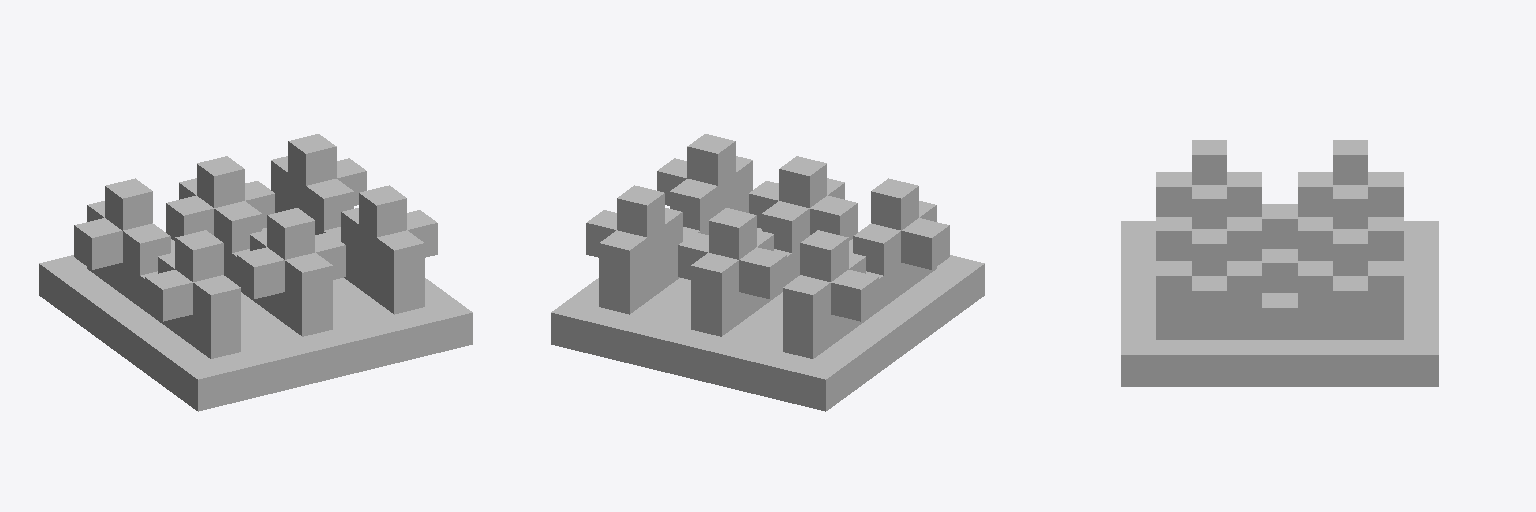
The model's file is Cabbage 2.obj.
The picture shows the model from 3 angles: view 1: azimuth 30°, elevation 25°; view 2: azimuth 150°, elevation 25°; view 3: azimuth 270°, elevation 25°; orthographic projection.
Parts seen in each view (by area): view 1: object 1; view 2: object 1; view 3: object 1.
Part boxes in pixels (x1,y1,x2,y2): object 1: (39, 134, 472, 411); object 1: (551, 134, 984, 411); object 1: (1121, 140, 1438, 386).
Size of the model in its own units: 0.9 by 0.4 by 0.9.